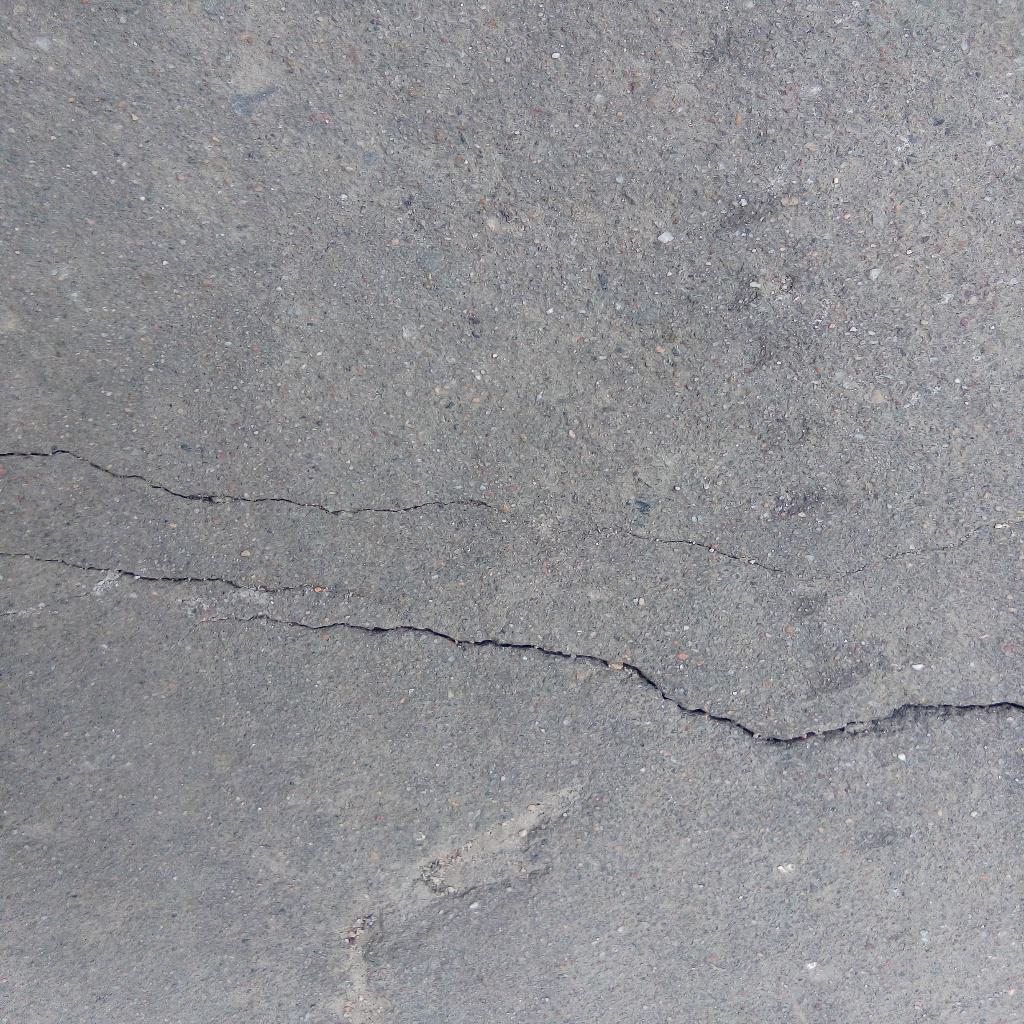Crack: (1, 449, 986, 582), (221, 613, 1024, 746), (1, 549, 319, 596)
